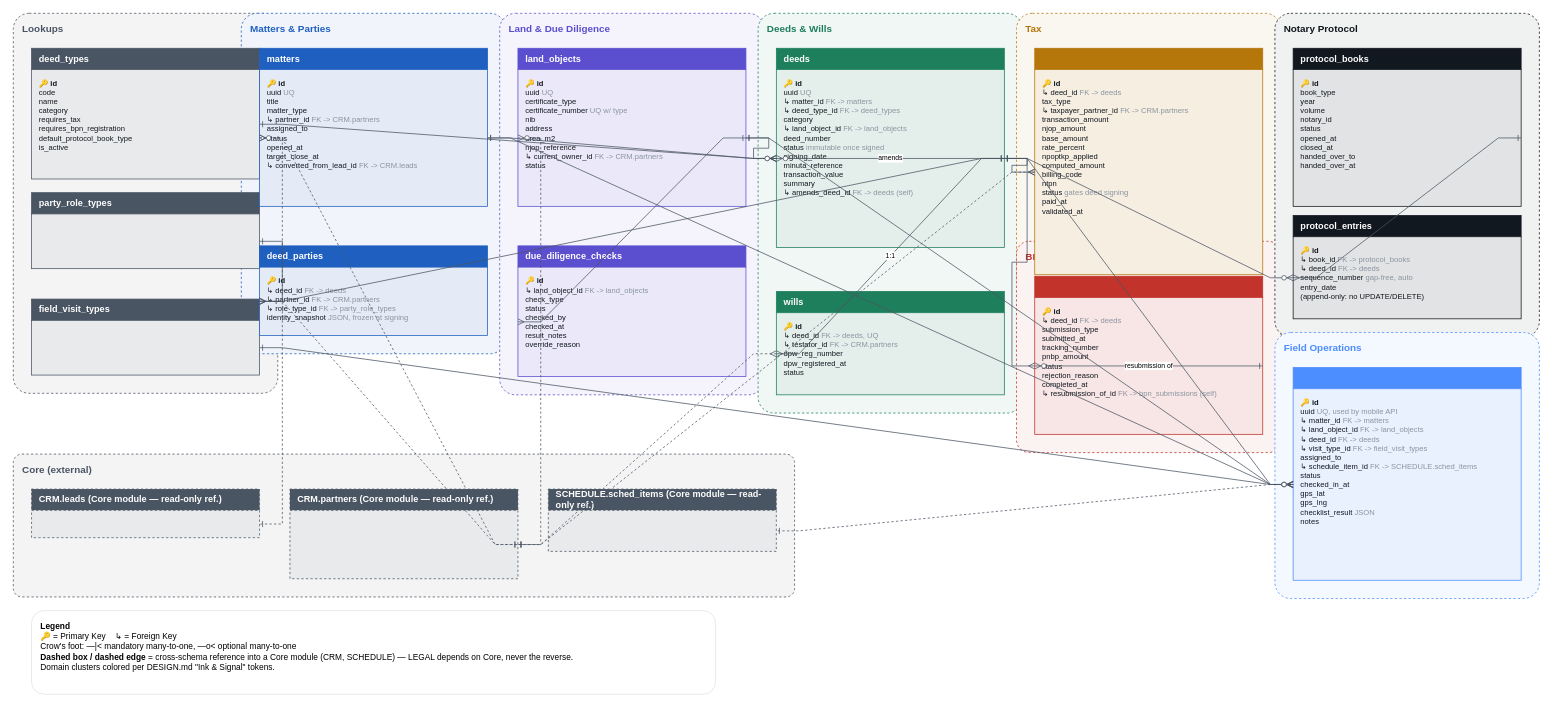
The diagram is 1553 pixels wide and 708 high, and some of its shapes have lost their labels. Here are the shapes that lost their labels. From the top down, the centre of each, then its label:
At [1148,59]: "deed_taxes".
At [145,241]: "🔑 id code name is_active".
At [1148,287]: "bpn_submissions".
At [145,347]: "🔑 id code name default_checklist JSON".
At [1406,378]: "field_visits".
At [145,524]: "🔑 id name".
At [403,544]: "🔑 id uuid UQ type name is_active".
At [662,530]: "🔑 id type title".
